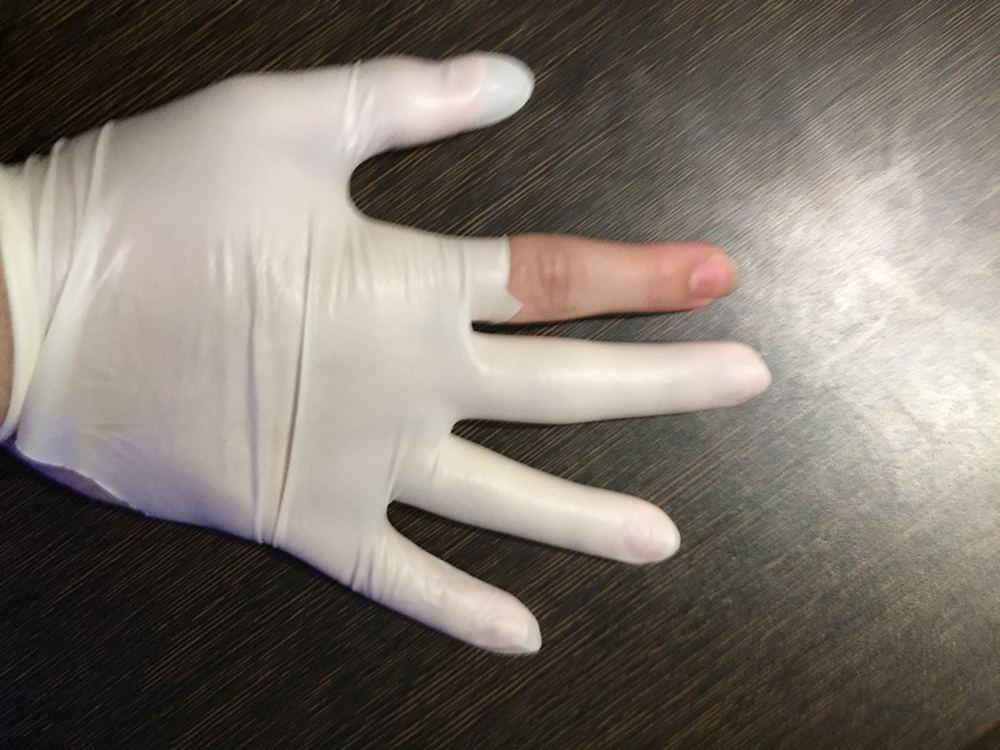defected: (22, 24, 811, 696)
